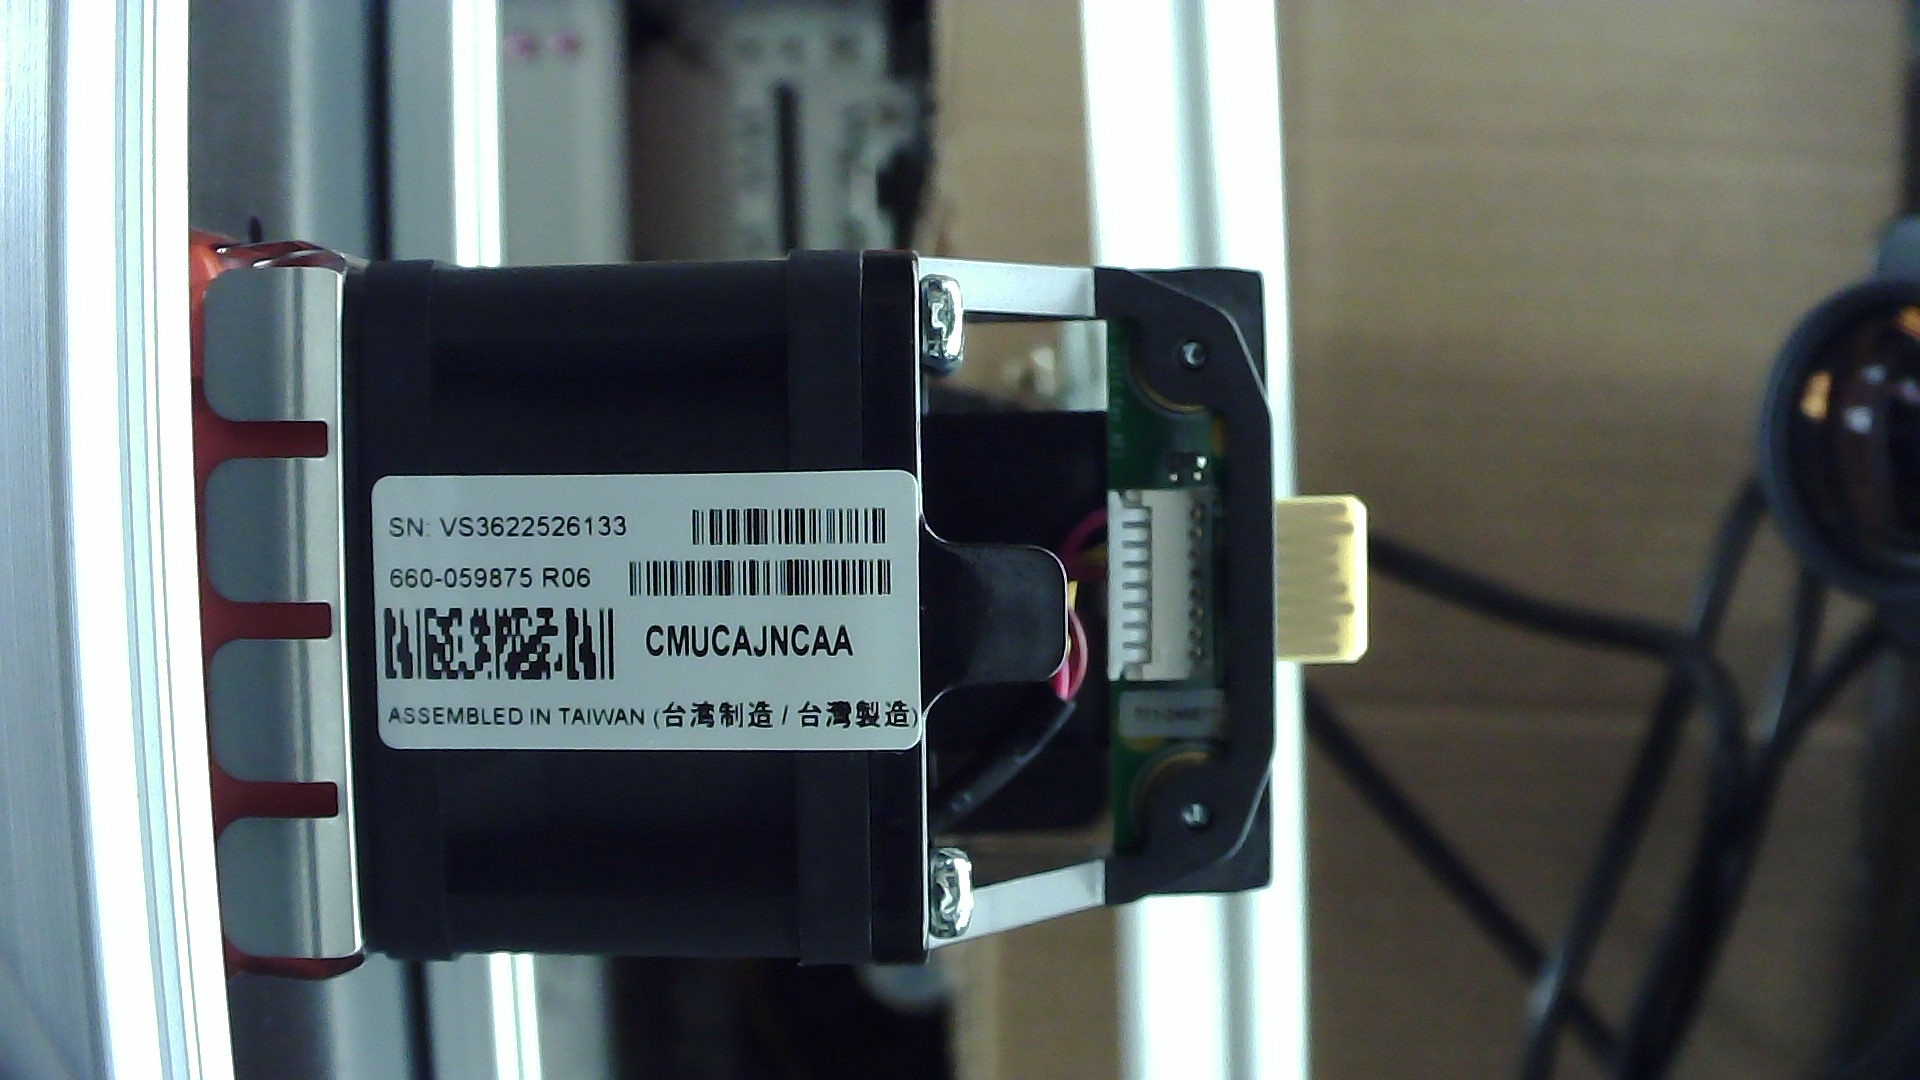2_0: (144, 191, 1408, 1005)
